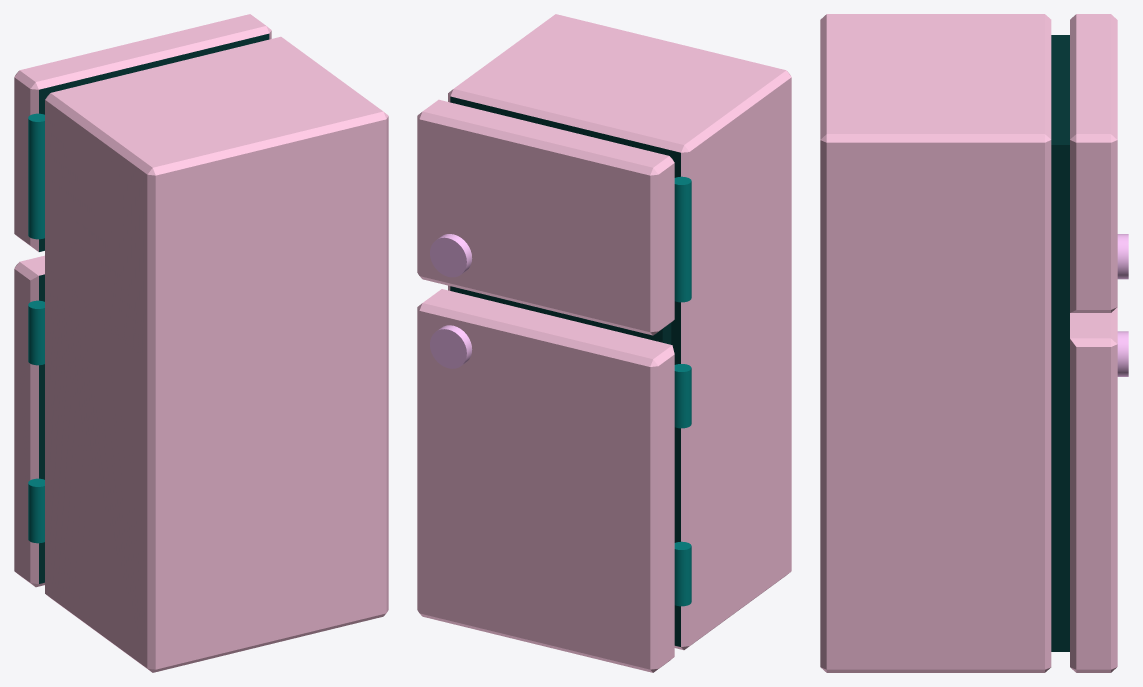
File: Storge.fbx
3 renders of one model, left to right at view 1: azimuth 30°, elevation 25°; view 2: azimuth 150°, elevation 25°; view 3: azimuth 270°, elevation 25°, orthographic. The views are drawn at different scales.
Parts seen in each view (by area): view 1: Storage; view 2: Storage; view 3: Storage.
Part boxes in pixels (x1,y1,x2,y2): Storage: (14, 14, 388, 672); Storage: (417, 14, 791, 672); Storage: (820, 14, 1128, 672).
Size of the model in its own units: 1.03 by 2 by 1.04.
